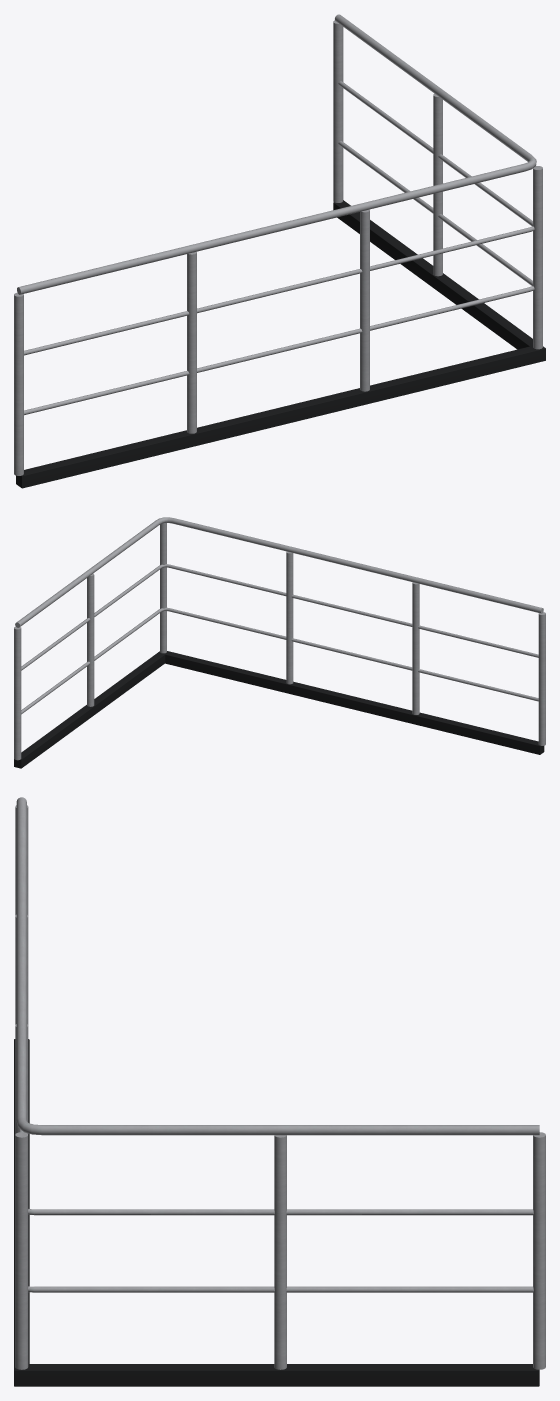
The model's file is gteki_railing_run_steel_h1100_l3000x2000.glb.
The picture shows the model from 3 angles, top to bottom: view 1: azimuth 30°, elevation 25°; view 2: azimuth 150°, elevation 25°; view 3: azimuth 270°, elevation 25°; orthographic projection. The views are drawn at different scales.
Visible parts, largest first — view 1: VIS_rails, VIS_base_channel, VIS_posts; view 2: VIS_rails, VIS_base_channel, VIS_posts; view 3: VIS_rails, VIS_base_channel, VIS_posts.
Part boxes in pixels (x1,y1,x2,y2): VIS_rails: (17,14,536,415); VIS_base_channel: (16,200,545,488); VIS_posts: (14,20,542,475); VIS_rails: (15,517,543,714); VIS_base_channel: (14,651,544,768); VIS_posts: (14,523,545,760); VIS_rails: (16,797,539,1292); VIS_base_channel: (14,1039,539,1386); VIS_posts: (15,805,545,1369).
Bounding box in the file's own units: 3.05 × 1.1 × 2.06.
2 materials, 1 textured.
